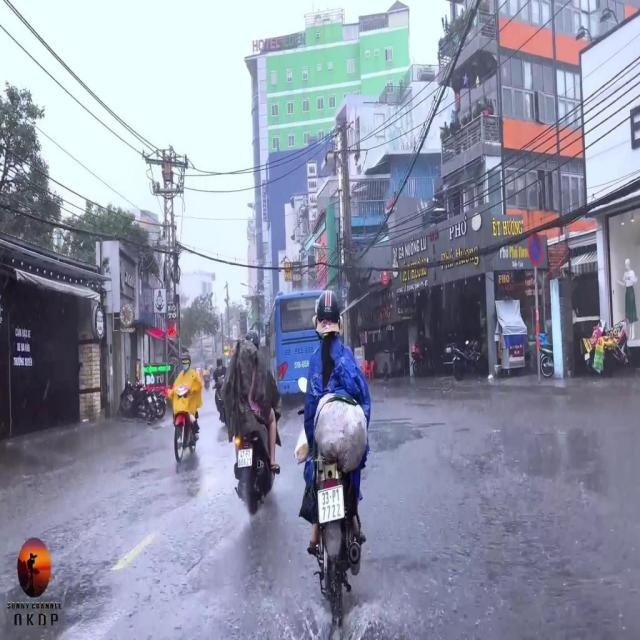cam_dung_xe_va_do_xe: (528, 233, 543, 266)
